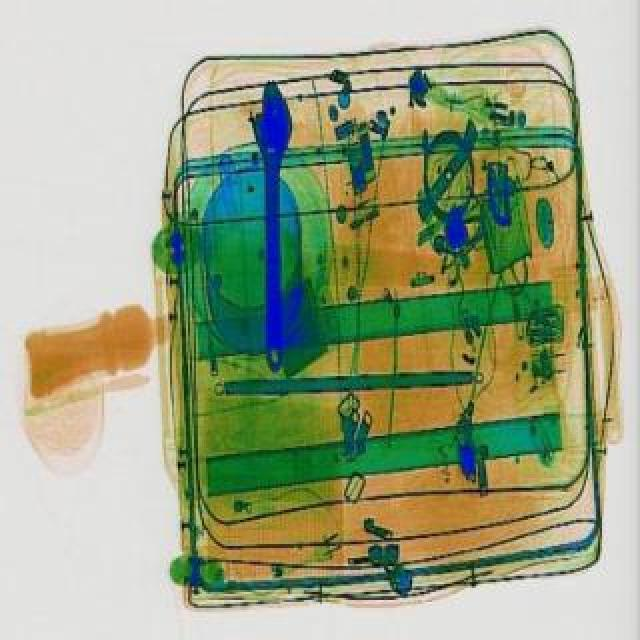scissors: (250, 78, 298, 370)
